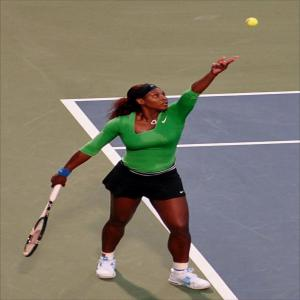TennisBall: (247, 18, 258, 27)
